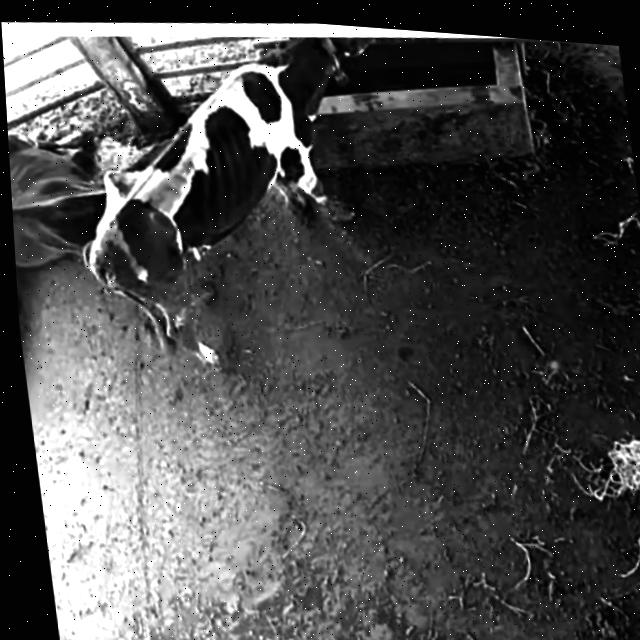drink: (256, 25, 420, 125)
